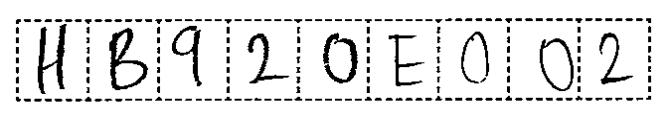0: (534, 33, 577, 95), (319, 29, 360, 89), (456, 27, 496, 87)
2: (241, 29, 292, 88), (589, 29, 638, 90)
9: (167, 23, 212, 92)
B: (104, 26, 152, 95)
E: (382, 30, 430, 92)
H: (30, 24, 74, 96)
